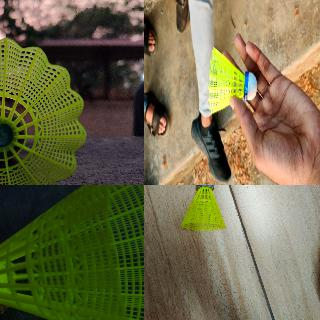shuttlecock: (0, 185, 143, 319), (0, 38, 86, 184), (208, 47, 256, 114), (181, 185, 226, 233)
